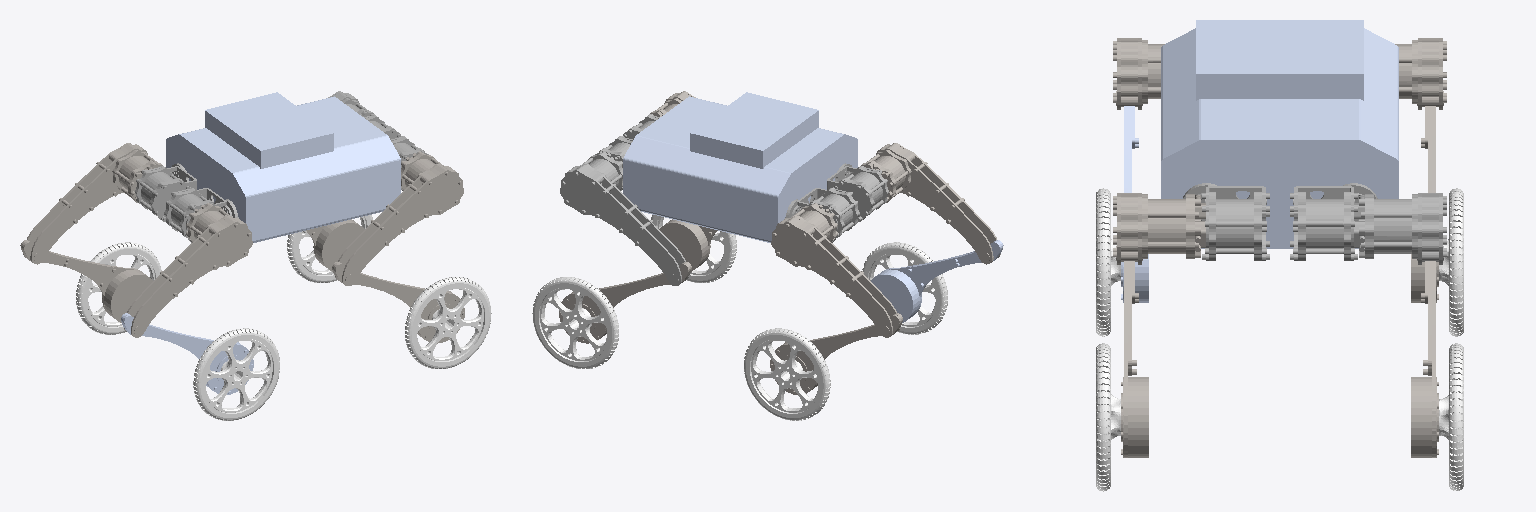
The robot description file, URDF, robot "##Bodydemo03.SLDASM":
<?xml version="1.0" encoding="utf-8"?>
<!-- This URDF was automatically created by SolidWorks to URDF Exporter! Originally created by Stephen Brawner (brawner@gmail.com) 
     Commit Version: 1.6.0-4-g7f85cfe  Build Version: 1.6.7995.38578
     For more information, please see http://wiki.ros.org/sw_urdf_exporter -->
<robot
  name="##Bodydemo03.SLDASM">
  <link
    name="base_link">
    <inertial>
      <origin
        xyz="-0.00435120711226353 -0.000636944308567702 0.0159040912788772"
        rpy="0 0 0" />
      <mass
        value="12.785" />
      <inertia
        ixx="0.15267343"
        ixy="-0.00046875"
        ixz="0.00005037"
        iyy="0.19732802"
        iyz="0.00435732"
        izz="0.09775740" />
    </inertial>
    <visual>
      <origin
        xyz="0 0 0"
        rpy="0 0 0" />
      <geometry>
        <mesh
          filename="package://##Bodydemo03.SLDASM/meshes/base_link.STL" />
      </geometry>
      <material
        name="">
        <color
          rgba="0.86667 0.9098 1 1" />
      </material>
    </visual>
    <collision>
      <origin
        xyz="0 0 0"
        rpy="0 0 0" />
      <geometry>
        <mesh
          filename="package://##Bodydemo03.SLDASM/meshes/base_link.STL" />
      </geometry>
    </collision>
  </link>

  <link
    name="fl_hip_link">
    <inertial>
      <origin
        xyz="-0.00288466340497762 -0.0314030147886022 -0.000402958385543122"
        rpy="0 0 0" />
      <mass
        value="0.69944" />
      <inertia
        ixx="0.00049826"
        ixy="2.83E-05"
        ixz="8.1E-07"
        iyy="0.00050891"
        iyz="-6.63E-06"
        izz="0.00059861" />
    </inertial>
    <visual>
      <origin
        xyz="0 0 0"
        rpy="0 0 0" />
      <geometry>
        <mesh
          filename="package://##Bodydemo03.SLDASM/meshes/fl_hip_link.STL" />
      </geometry>
      <material
        name="">
        <color
          rgba="0.75294 0.75294 0.75294 1" />
      </material>
    </visual>
    <collision>
      <origin
        xyz="0 0 0"
        rpy="0 0 0" />
      <geometry>
        <mesh
          filename="package://##Bodydemo03.SLDASM/meshes/fl_hip_link.STL" />
      </geometry>
    </collision>
  </link>
  <joint
    name="fl_hip_joint"
    type="revolute">
    <origin
      xyz="0.217474558772093 0.0874999999999997 0"
      rpy="0 0 0" />
    <parent
      link="base_link" />
    <child
      link="fl_hip_link" />
    <axis
      xyz="-1 0 0" />
    <limit
      lower="0"
      upper="0"
      effort="0"
      velocity="0" />
  </joint>

  <link
    name="fl_thigh_link">
    <inertial>
      <origin
        xyz="-0.0269220004036679 -0.0306453660034738 -0.013220966085075"
        rpy="0 0 0" />
      <mass
        value="1.0341" />
      <inertia
        ixx="0.00227316"
        ixy="0.00084941"
        ixz="-0.00195553"
        iyy="0.0052621"
        iyz="0.00043789"
        izz="0.00466487" />
    </inertial>
    <visual>
      <origin
        xyz="0 0 0"
        rpy="0 0 0" />
      <geometry>
        <mesh
          filename="package://##Bodydemo03.SLDASM/meshes/fl_thigh_link.STL" />
      </geometry>
      <material
        name="">
        <color
          rgba="0.75294 0.75294 0.75294 1" />
      </material>
    </visual>
    <collision>
      <origin
        xyz="0 0 0"
        rpy="0 0 0" />
      <geometry>
        <mesh
          filename="package://##Bodydemo03.SLDASM/meshes/fl_thigh_link.STL" />
      </geometry>
    </collision>
  </link>
  <joint
    name="fl_thigh_joint"
    type="revolute">
    <origin
      xyz="0 0.0912999999999871 0"
      rpy="0 0 0" />
    <parent
      link="fl_hip_link" />
    <child
      link="fl_thigh_link" />
    <axis
      xyz="0 -1 0" />
    <limit
      lower="0"
      upper="0"
      effort="0"
      velocity="0" />
  </joint>

  <link
    name="fl_calf_link">
    <inertial>
      <origin
        xyz="0.173732637668876 -0.00723432501506124 -0.111123748092798"
        rpy="0 0 0" />
      <mass
        value="0.67596" />
      <inertia
        ixx="0.0012649"
        ixy="9.426E-05"
        ixz="0.0012414"
        iyy="0.0033531"
        iyz="-6.978E-05"
        izz="0.0022081" />
    </inertial>
    <visual>
      <origin
        xyz="0 0 0"
        rpy="0 0 0" />
      <geometry>
        <mesh
          filename="package://##Bodydemo03.SLDASM/meshes/fl_calf_link.STL" />
      </geometry>
      <material
        name="">
        <color
          rgba="0.77647 0.75686 0.73725 1" />
      </material>
    </visual>
    <collision>
      <origin
        xyz="0 0 0"
        rpy="0 0 0" />
      <geometry>
        <mesh
          filename="package://##Bodydemo03.SLDASM/meshes/fl_calf_link.STL" />
      </geometry>
    </collision>
  </link>
  <joint
    name="fl_calf_joint"
    type="revolute">
    <origin
      xyz="-0.19306734577425 0 -0.124999999982744"
      rpy="0 0 0" />
    <parent
      link="fl_thigh_link" />
    <child
      link="fl_calf_link" />
    <axis
      xyz="0 -1 0" />
    <limit
      lower="0"
      upper="0"
      effort="0"
      velocity="0" />
  </joint>

  <link
    name="fl_foot_link">
    <inertial>
      <origin
        xyz="1.79413616566149E-06 -0.000912007017585925 -5.64124039925673E-07"
        rpy="0 0 0" />
      <mass
        value="0.26239" />
      <inertia
        ixx="0.00062168"
        ixy="0"
        ixz="0"
        iyy="0.00122847"
        iyz="0"
        izz="0.00062167" />
    </inertial>
    <visual>
      <origin
        xyz="0 0 0"
        rpy="0 0 0" />
      <geometry>
        <mesh
          filename="package://##Bodydemo03.SLDASM/meshes/fl_foot_link.STL" />
      </geometry>
      <material
        name="">
        <color
          rgba="1 1 1 1" />
      </material>
    </visual>
    <collision>
      <origin
        xyz="0 0 0"
        rpy="0 0 0" />
      <geometry>
        <mesh
          filename="package://##Bodydemo03.SLDASM/meshes/fl_foot_link.STL" />
      </geometry>
    </collision>
  </link>
  <joint
    name="fl_foot_joint"
    type="continuous">
    <origin
      xyz="0.193067345751907 0.0307999999999862 -0.125000000017255"
      rpy="0 0 0" />
    <parent
      link="fl_calf_link" />
    <child
      link="fl_foot_link" />
    <axis
      xyz="0 1 0" />
  </joint>

  <link
    name="fr_hip_link">
    <inertial>
      <origin
        xyz="-0.00288466340497778 0.031403014788602 0.000402958385543087"
        rpy="0 0 0" />
      <mass
        value="0.69944" />
      <inertia
        ixx="0.00049826"
        ixy="-2.83E-05"
        ixz="-8.1E-07"
        iyy="0.00050891"
        iyz="-6.63E-06"
        izz="0.00059861" />
    </inertial>
    <visual>
      <origin
        xyz="0 0 0"
        rpy="0 0 0" />
      <geometry>
        <mesh
          filename="package://##Bodydemo03.SLDASM/meshes/fr_hip_link.STL" />
      </geometry>
      <material
        name="">
        <color
          rgba="0.75294 0.75294 0.75294 1" />
      </material>
    </visual>
    <collision>
      <origin
        xyz="0 0 0"
        rpy="0 0 0" />
      <geometry>
        <mesh
          filename="package://##Bodydemo03.SLDASM/meshes/fr_hip_link.STL" />
      </geometry>
    </collision>
  </link>
  <joint
    name="fr_hip_joint"
    type="revolute">
    <origin
      xyz="0.217474558772093 -0.0875000000000001 0"
      rpy="0 0 0" />
    <parent
      link="base_link" />
    <child
      link="fr_hip_link" />
    <axis
      xyz="-1 0 0" />
    <limit
      lower="0"
      upper="0"
      effort="0"
      velocity="0" />
  </joint>

  <link
    name="fr_thigh_link">
    <inertial>
      <origin
        xyz="-0.0269511878260825 0.0305305548072641 -0.0132696909944915"
        rpy="0 0 0" />
      <mass
        value="1.0321" />
      <inertia
        ixx="0.00226512"
        ixy="-0.00084766"
        ixz="-0.00195479"
        iyy="0.00526044"
        iyz="-0.00043501"
        izz="0.00465761" />
    </inertial>
    <visual>
      <origin
        xyz="0 0 0"
        rpy="0 0 0" />
      <geometry>
        <mesh
          filename="package://##Bodydemo03.SLDASM/meshes/fr_thigh_link.STL" />
      </geometry>
      <material
        name="">
        <color
          rgba="0.77647 0.75686 0.73725 1" />
      </material>
    </visual>
    <collision>
      <origin
        xyz="0 0 0"
        rpy="0 0 0" />
      <geometry>
        <mesh
          filename="package://##Bodydemo03.SLDASM/meshes/fr_thigh_link.STL" />
      </geometry>
    </collision>
  </link>
  <joint
    name="fr_thigh_joint"
    type="revolute">
    <origin
      xyz="0 -0.0913000000000153 0"
      rpy="0 0 0" />
    <parent
      link="fr_hip_link" />
    <child
      link="fr_thigh_link" />
    <axis
      xyz="0 1 0" />
    <limit
      lower="0"
      upper="0"
      effort="0"
      velocity="0" />
  </joint>

  <link
    name="fr_calf_link">
    <inertial>
      <origin
        xyz="0.173844928375313 0.00723432399089674 -0.111018320886404"
        rpy="0 0 0" />
      <mass
        value="0.67596" />
      <inertia
        ixx="0.00126475"
        ixy="-9.547E-05"
        ixz="0.00124095"
        iyy="0.00335404"
        iyz="6.864E-05"
        izz="0.00220913" />
    </inertial>
    <visual>
      <origin
        xyz="0 0 0"
        rpy="0 0 0" />
      <geometry>
        <mesh
          filename="package://##Bodydemo03.SLDASM/meshes/fr_calf_link.STL" />
      </geometry>
      <material
        name="">
        <color
          rgba="0.77647 0.75686 0.73725 1" />
      </material>
    </visual>
    <collision>
      <origin
        xyz="0 0 0"
        rpy="0 0 0" />
      <geometry>
        <mesh
          filename="package://##Bodydemo03.SLDASM/meshes/fr_calf_link.STL" />
      </geometry>
    </collision>
  </link>
  <joint
    name="fr_calf_joint"
    type="revolute">
    <origin
      xyz="-0.193067345774251 0 -0.124999999982742"
      rpy="0 0 0" />
    <parent
      link="fr_thigh_link" />
    <child
      link="fr_calf_link" />
    <axis
      xyz="0 1 0" />
    <limit
      lower="0"
      upper="0"
      effort="0"
      velocity="0" />
  </joint>

  <link
    name="fr_foot_link">
    <inertial>
      <origin
        xyz="-5.73210289872561E-07 0.000912006985863384 1.79114118703527E-06"
        rpy="0 0 0" />
      <mass
        value="0.26239" />
      <inertia
        ixx="0.00062167"
        ixy="0"
        ixz="0"
        iyy="0.0012285"
        iyz="0"
        izz="0.00062168" />
    </inertial>
    <visual>
      <origin
        xyz="0 0 0"
        rpy="0 0 0" />
      <geometry>
        <mesh
          filename="package://##Bodydemo03.SLDASM/meshes/fr_foot_link.STL" />
      </geometry>
      <material
        name="">
        <color
          rgba="1 1 1 1" />
      </material>
    </visual>
    <collision>
      <origin
        xyz="0 0 0"
        rpy="0 0 0" />
      <geometry>
        <mesh
          filename="package://##Bodydemo03.SLDASM/meshes/fr_foot_link.STL" />
      </geometry>
    </collision>
  </link>
  <joint
    name="fr_foot_joint"
    type="continuous">
    <origin
      xyz="0.193067345751907 -0.0307999999999859 -0.125000000017257"
      rpy="0 0 0" />
    <parent
      link="fr_calf_link" />
    <child
      link="fr_foot_link" />
    <axis
      xyz="0 -1 0" />
  </joint>

  <link
    name="rl_hip_link">
    <inertial>
      <origin
        xyz="0.0028846634049777 -0.0314030147886021 0.000402958385543481"
        rpy="0 0 0" />
      <mass
        value="0.69944" />
      <inertia
        ixx="0.00049826"
        ixy="-2.83E-05"
        ixz="8.1E-07"
        iyy="0.00050891"
        iyz="6.63E-06"
        izz="0.00059861" />
    </inertial>
    <visual>
      <origin
        xyz="0 0 0"
        rpy="0 0 0" />
      <geometry>
        <mesh
          filename="package://##Bodydemo03.SLDASM/meshes/rl_hip_link.STL" />
      </geometry>
      <material
        name="">
        <color
          rgba="0.75294 0.75294 0.75294 1" />
      </material>
    </visual>
    <collision>
      <origin
        xyz="0 0 0"
        rpy="0 0 0" />
      <geometry>
        <mesh
          filename="package://##Bodydemo03.SLDASM/meshes/rl_hip_link.STL" />
      </geometry>
    </collision>
  </link>
  <joint
    name="rl_hip_joint"
    type="revolute">
    <origin
      xyz="-0.217474558772093 0.0875000000000006 0"
      rpy="0 0 0" />
    <parent
      link="base_link" />
    <child
      link="rl_hip_link" />
    <axis
      xyz="1 0 0" />
    <limit
      lower="0"
      upper="0"
      effort="0"
      velocity="0" />
  </joint>

  <link
    name="rl_thigh_link">
    <inertial>
      <origin
        xyz="-0.0269218242910762 -0.0306453793849444 -0.0132195944525783"
        rpy="0 0 0" />
      <mass
        value="1.0341" />
      <inertia
        ixx="0.00227321"
        ixy="0.00084941"
        ixz="-0.00195557"
        iyy="0.00526216"
        iyz="0.0004379"
        izz="0.00466488" />
    </inertial>
    <visual>
      <origin
        xyz="0 0 0"
        rpy="0 0 0" />
      <geometry>
        <mesh
          filename="package://##Bodydemo03.SLDASM/meshes/rl_thigh_link.STL" />
      </geometry>
      <material
        name="">
        <color
          rgba="0.77647 0.75686 0.73725 1" />
      </material>
    </visual>
    <collision>
      <origin
        xyz="0 0 0"
        rpy="0 0 0" />
      <geometry>
        <mesh
          filename="package://##Bodydemo03.SLDASM/meshes/rl_thigh_link.STL" />
      </geometry>
    </collision>
  </link>
  <joint
    name="rl_thigh_joint"
    type="revolute">
    <origin
      xyz="0 0.0912999999999876 0"
      rpy="0 0 0" />
    <parent
      link="rl_hip_link" />
    <child
      link="rl_thigh_link" />
    <axis
      xyz="0 -1 0" />
    <limit
      lower="0"
      upper="0"
      effort="0"
      velocity="0" />
  </joint>

  <link
    name="rl_calf_link">
    <inertial>
      <origin
        xyz="0.173732637679526 -0.00723432501544907 -0.111123748078107"
        rpy="0 0 0" />
      <mass
        value="0.67596" />
      <inertia
        ixx="0.0012649"
        ixy="9.426E-05"
        ixz="0.0012414"
        iyy="0.0033531"
        iyz="-6.978E-05"
        izz="0.0022081" />
    </inertial>
    <visual>
      <origin
        xyz="0 0 0"
        rpy="0 0 0" />
      <geometry>
        <mesh
          filename="package://##Bodydemo03.SLDASM/meshes/rl_calf_link.STL" />
      </geometry>
      <material
        name="">
        <color
          rgba="0.77647 0.75686 0.73725 1" />
      </material>
    </visual>
    <collision>
      <origin
        xyz="0 0 0"
        rpy="0 0 0" />
      <geometry>
        <mesh
          filename="package://##Bodydemo03.SLDASM/meshes/rl_calf_link.STL" />
      </geometry>
    </collision>
  </link>
  <joint
    name="rl_calf_joint"
    type="revolute">
    <origin
      xyz="-0.193067345763078 0 -0.125"
      rpy="0 0 0" />
    <parent
      link="rl_thigh_link" />
    <child
      link="rl_calf_link" />
    <axis
      xyz="0 -1 0" />
    <limit
      lower="0"
      upper="0"
      effort="0"
      velocity="0" />
  </joint>

  <link
    name="rl_foot_link">
    <inertial>
      <origin
        xyz="1.79419663592917E-06 -0.000912007019633038 -5.64105090861133E-07"
        rpy="0 0 0" />
      <mass
        value="0.26239" />
      <inertia
        ixx="0.00062168"
        ixy="0"
        ixz="0"
        iyy="0.00122847"
        iyz="0"
        izz="0.00062167" />
    </inertial>
    <visual>
      <origin
        xyz="0 0 0"
        rpy="0 0 0" />
      <geometry>
        <mesh
          filename="package://##Bodydemo03.SLDASM/meshes/rl_foot_link.STL" />
      </geometry>
      <material
        name="">
        <color
          rgba="1 1 1 1" />
      </material>
    </visual>
    <collision>
      <origin
        xyz="0 0 0"
        rpy="0 0 0" />
      <geometry>
        <mesh
          filename="package://##Bodydemo03.SLDASM/meshes/rl_foot_link.STL" />
      </geometry>
    </collision>
  </link>
  <joint
    name="rl_foot_joint"
    type="continuous">
    <origin
      xyz="0.193067345763079 0.0307999999999875 -0.124999999999999"
      rpy="0 0 0" />
    <parent
      link="rl_calf_link" />
    <child
      link="rl_foot_link" />
    <axis
      xyz="0 1 0" />
  </joint>

  <link
    name="rr_hip_link">
    <inertial>
      <origin
        xyz="0.00288466340497764 0.0314030147886021 -0.000402958385543502"
        rpy="0 0 0" />
      <mass
        value="0.69944" />
      <inertia
        ixx="0.00049826"
        ixy="2.83E-05"
        ixz="-8.1E-07"
        iyy="0.00050891"
        iyz="6.63E-06"
        izz="0.00059861" />
    </inertial>
    <visual>
      <origin
        xyz="0 0 0"
        rpy="0 0 0" />
      <geometry>
        <mesh
          filename="package://##Bodydemo03.SLDASM/meshes/rr_hip_link.STL" />
      </geometry>
      <material
        name="">
        <color
          rgba="0.75294 0.75294 0.75294 1" />
      </material>
    </visual>
    <collision>
      <origin
        xyz="0 0 0"
        rpy="0 0 0" />
      <geometry>
        <mesh
          filename="package://##Bodydemo03.SLDASM/meshes/rr_hip_link.STL" />
      </geometry>
    </collision>
  </link>
  <joint
    name="rr_hip_joint"
    type="revolute">
    <origin
      xyz="-0.217474558772093 -0.0874999999999992 0"
      rpy="0 0 0" />
    <parent
      link="base_link" />
    <child
      link="rr_hip_link" />
    <axis
      xyz="1 0 0" />
    <limit
      lower="0"
      upper="0"
      effort="0"
      velocity="0" />
  </joint>

  <link
    name="rr_thigh_link">
    <inertial>
      <origin
        xyz="-0.0269219941317352 0.0306454028275143 -0.0132197719951247"
        rpy="0 0 0" />
      <mass
        value="1.0341" />
      <inertia
        ixx="0.0022732"
        ixy="-0.0008494"
        ixz="-0.00195557"
        iyy="0.00526214"
        iyz="-0.00043792"
        izz="0.00466487" />
    </inertial>
    <visual>
      <origin
        xyz="0 0 0"
        rpy="0 0 0" />
      <geometry>
        <mesh
          filename="package://##Bodydemo03.SLDASM/meshes/rr_thigh_link.STL" />
      </geometry>
      <material
        name="">
        <color
          rgba="0.77647 0.75686 0.73725 1" />
      </material>
    </visual>
    <collision>
      <origin
        xyz="0 0 0"
        rpy="0 0 0" />
      <geometry>
        <mesh
          filename="package://##Bodydemo03.SLDASM/meshes/rr_thigh_link.STL" />
      </geometry>
    </collision>
  </link>
  <joint
    name="rr_thigh_joint"
    type="revolute">
    <origin
      xyz="0 -0.0913000000000146 0"
      rpy="0 0 0" />
    <parent
      link="rr_hip_link" />
    <child
      link="rr_thigh_link" />
    <axis
      xyz="0 1 0" />
    <limit
      lower="0"
      upper="0"
      effort="0"
      velocity="0" />
  </joint>

  <link
    name="rr_calf_link">
    <inertial>
      <origin
        xyz="0.173844928385236 0.00723432399089691 -0.111018320870865"
        rpy="0 0 0" />
      <mass
        value="0.67596" />
      <inertia
        ixx="0.00126475"
        ixy="-9.547E-05"
        ixz="0.00124095"
        iyy="0.00335404"
        iyz="6.864E-05"
        izz="0.00220913" />
    </inertial>
    <visual>
      <origin
        xyz="0 0 0"
        rpy="0 0 0" />
      <geometry>
        <mesh
          filename="package://##Bodydemo03.SLDASM/meshes/rr_calf_link.STL" />
      </geometry>
      <material
        name="">
        <color
          rgba="0.86667 0.9098 1 1" />
      </material>
    </visual>
    <collision>
      <origin
        xyz="0 0 0"
        rpy="0 0 0" />
      <geometry>
        <mesh
          filename="package://##Bodydemo03.SLDASM/meshes/rr_calf_link.STL" />
      </geometry>
    </collision>
  </link>
  <joint
    name="rr_calf_joint"
    type="revolute">
    <origin
      xyz="-0.19306734576308 0 -0.124999999999998"
      rpy="0 0 0" />
    <parent
      link="rr_thigh_link" />
    <child
      link="rr_calf_link" />
    <axis
      xyz="0 1 0" />
    <limit
      lower="0"
      upper="0"
      effort="0"
      velocity="0" />
  </joint>

  <link
    name="rr_foot_link">
    <inertial>
      <origin
        xyz="-5.73603955195123E-07 0.000912007069870852 1.79107005621182E-06"
        rpy="0 0 0" />
      <mass
        value="0.26239" />
      <inertia
        ixx="0.00062167"
        ixy="0"
        ixz="0"
        iyy="0.00122847"
        iyz="0"
        izz="0.00062168" />
    </inertial>
    <visual>
      <origin
        xyz="0 0 0"
        rpy="0 0 0" />
      <geometry>
        <mesh
          filename="package://##Bodydemo03.SLDASM/meshes/rr_foot_link.STL" />
      </geometry>
      <material
        name="">
        <color
          rgba="1 1 1 1" />
      </material>
    </visual>
    <collision>
      <origin
        xyz="0 0 0"
        rpy="0 0 0" />
      <geometry>
        <mesh
          filename="package://##Bodydemo03.SLDASM/meshes/rr_foot_link.STL" />
      </geometry>
    </collision>
  </link>
  <joint
    name="rr_foot_joint"
    type="continuous">
    <origin
      xyz="0.19306734576308 -0.0307999999999855 -0.125"
      rpy="0 0 0" />
    <parent
      link="rr_calf_link" />
    <child
      link="rr_foot_link" />
    <axis
      xyz="0 -1 0" />
  </joint>
</robot>

--- What the picture shows (computed from the rendered views, not written in the file) ---
The picture shows the robot from 3 angles, left to right: view 1: azimuth 30°, elevation 25°; view 2: azimuth 150°, elevation 25°; view 3: azimuth 270°, elevation 25°; orthographic projection.
Model ##Bodydemo03.SLDASM with 17 links and 16 joints (12 revolute, 4 continuous), rooted at base_link, posed all joints at 0.
Visible links, largest first — view 1: base_link, rr_thigh_link, fr_thigh_link, rl_thigh_link, rr_foot_link, fr_foot_link, rl_calf_link, rl_foot_link, rl_hip_link, rr_calf_link, fr_calf_link, rr_hip_link (+2 smaller); view 2: base_link, rl_thigh_link, fl_thigh_link, rr_thigh_link, rl_foot_link, fl_foot_link, rr_calf_link, rr_foot_link, rr_hip_link, fl_calf_link, rl_calf_link, rl_hip_link (+2 smaller); view 3: base_link, fl_thigh_link, fr_thigh_link, fl_hip_link, fr_hip_link, fl_calf_link, fr_calf_link, rl_thigh_link, rr_thigh_link, fr_foot_link, fl_foot_link, rr_foot_link (+3 smaller).
Boxes of the visible links, x1,y1,x2,y2 form: base_link: (166, 92, 400, 242); rr_thigh_link: (124, 203, 252, 337); fr_thigh_link: (335, 151, 463, 285); rl_thigh_link: (23, 143, 162, 264); rr_foot_link: (193, 328, 279, 420); fr_foot_link: (405, 277, 491, 368); rl_calf_link: (20, 240, 152, 322); rl_foot_link: (76, 242, 161, 334); rl_hip_link: (135, 163, 196, 221); rr_calf_link: (121, 313, 253, 394); fr_calf_link: (332, 262, 464, 343); rr_hip_link: (164, 187, 238, 242); base_link: (623, 92, 857, 242); rl_thigh_link: (771, 203, 899, 337); fl_thigh_link: (560, 151, 688, 285); rr_thigh_link: (861, 143, 1000, 264); rl_foot_link: (744, 328, 830, 420); fl_foot_link: (532, 277, 618, 368); rr_calf_link: (871, 240, 1003, 322); rr_foot_link: (862, 242, 947, 334); rr_hip_link: (827, 163, 888, 221); fl_calf_link: (559, 262, 691, 343); rl_calf_link: (770, 313, 902, 394); rl_hip_link: (785, 187, 859, 242); base_link: (1161, 20, 1398, 248); fl_thigh_link: (1354, 193, 1446, 264); fr_thigh_link: (1113, 193, 1205, 264); fl_hip_link: (1290, 183, 1377, 260); fr_hip_link: (1183, 183, 1269, 260); fl_calf_link: (1411, 261, 1438, 457); fr_calf_link: (1121, 261, 1148, 457); rl_thigh_link: (1395, 38, 1446, 109); rr_thigh_link: (1113, 38, 1164, 109); fr_foot_link: (1096, 343, 1120, 491); fl_foot_link: (1439, 343, 1463, 490); rr_foot_link: (1096, 188, 1120, 336).
Size in the robot's own frame: 0.7405 by 0.4372 by 0.4575 metres.
Meshes: 17 distinct files referenced, 17 mesh visuals loaded (17 binary STL).
